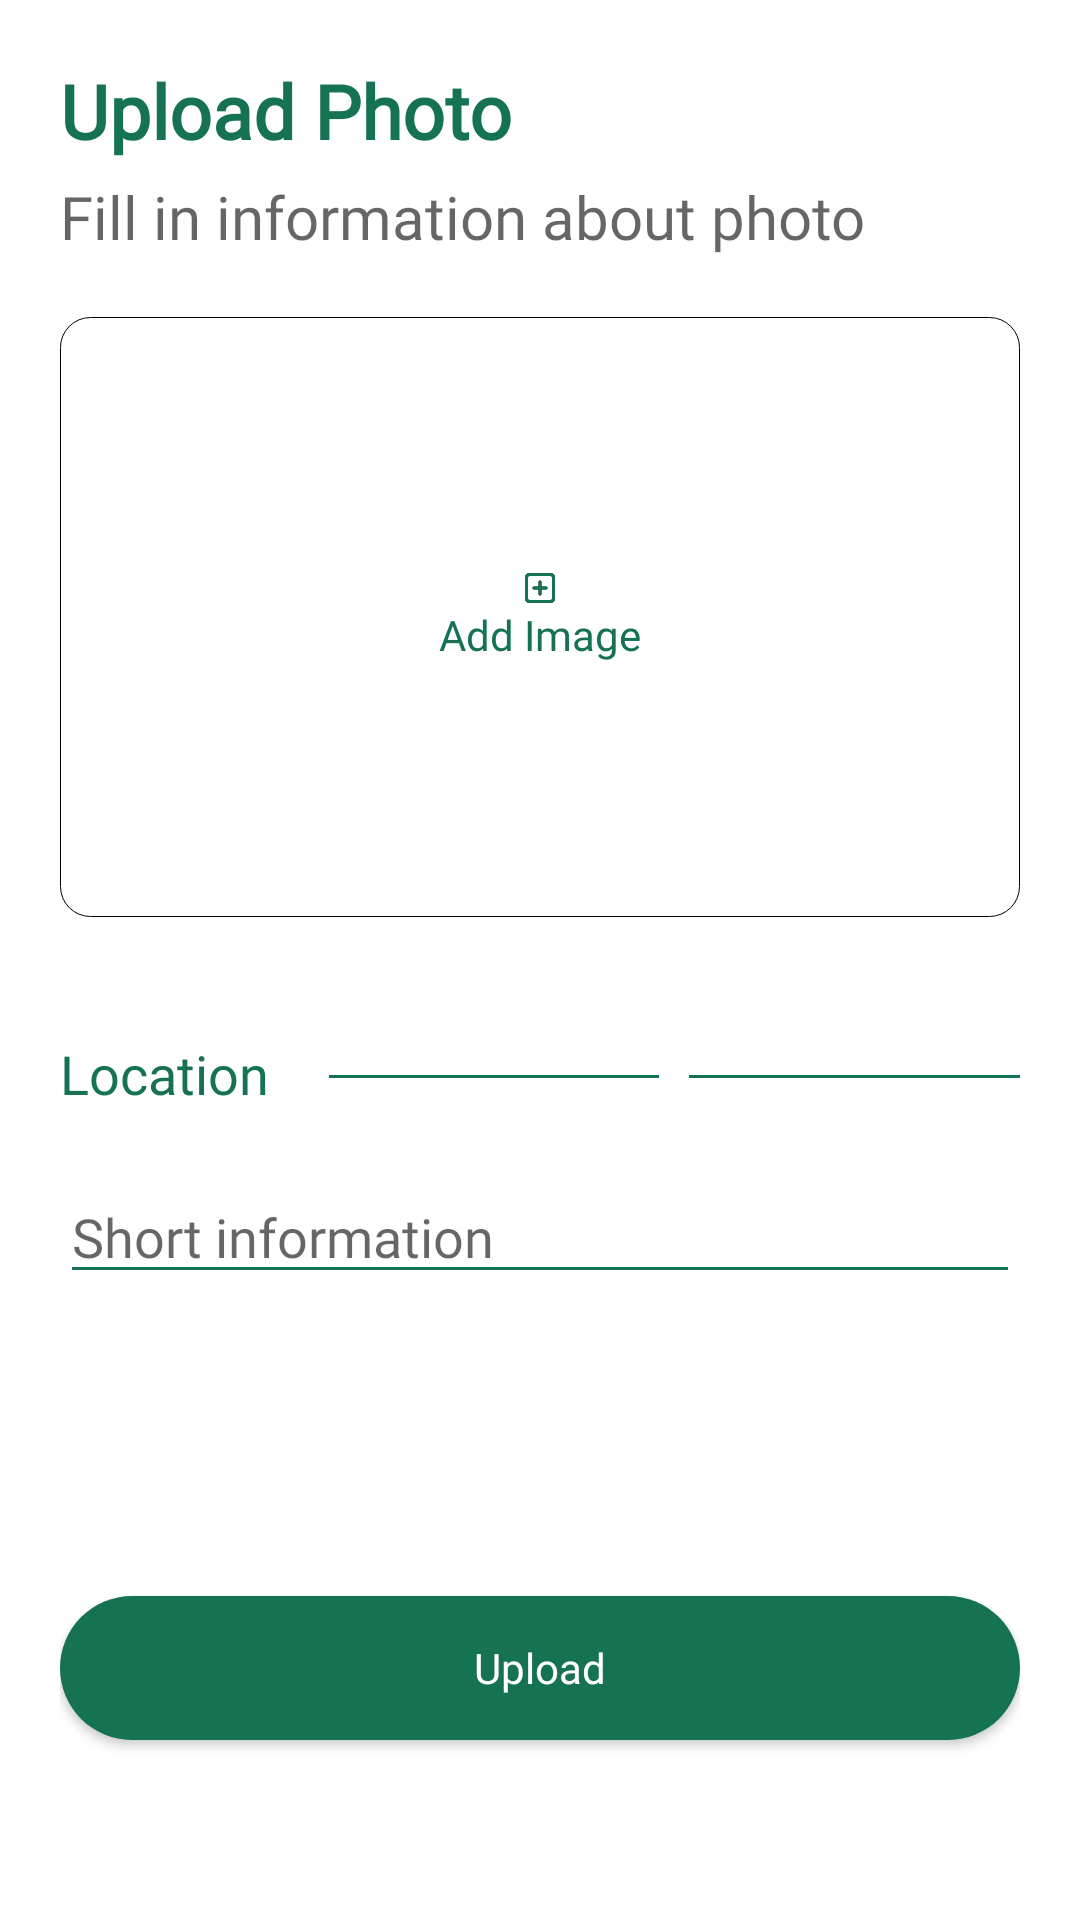

Where icons sit on this 1080px x 1920px app screen, as (x1, y1, x2, y2):
plus square: (525, 573, 555, 603)
